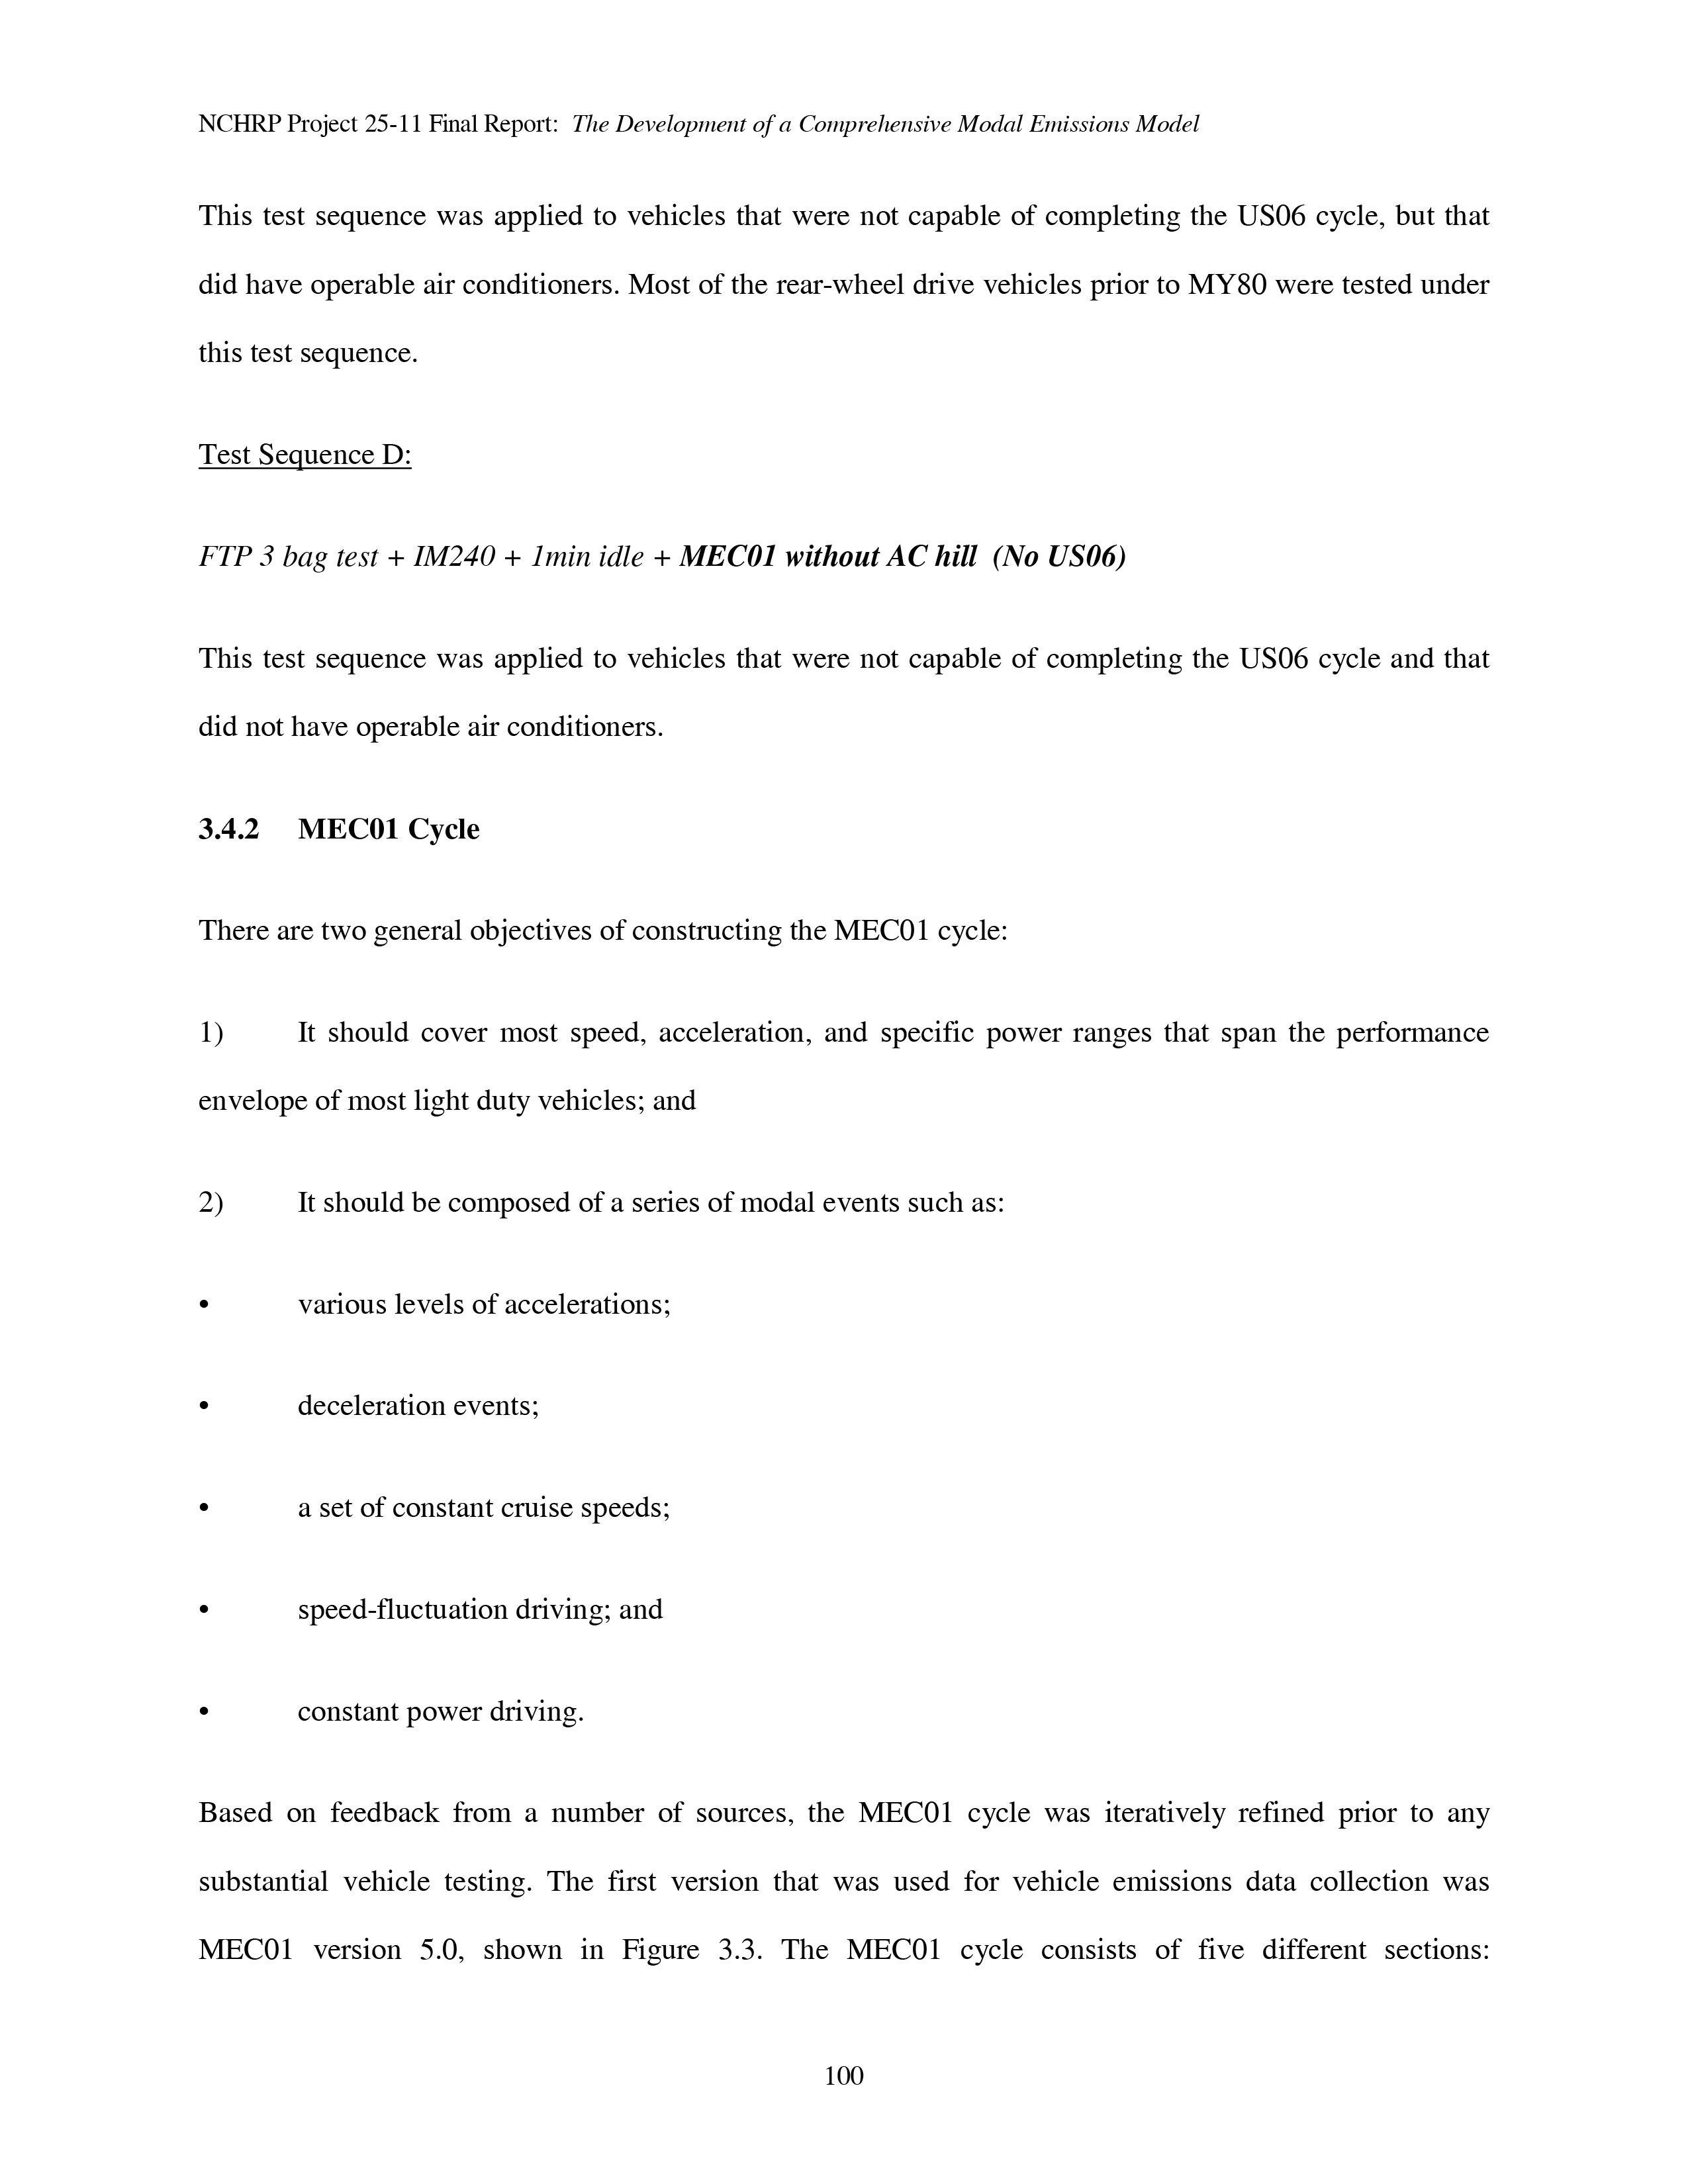list: (179, 1010, 1530, 1252), (179, 1278, 693, 1732)
section: (186, 789, 502, 853), (186, 420, 413, 482)
text: (183, 1790, 1523, 2008), (172, 199, 1500, 367), (191, 645, 1518, 757), (188, 96, 1220, 172), (191, 906, 1035, 961), (172, 546, 1174, 589)
